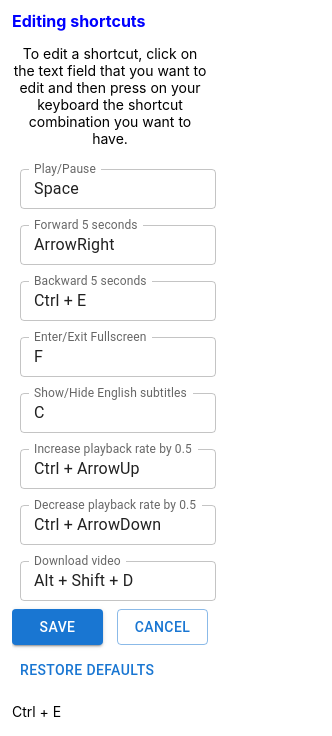
it: EditShortcuts › saves changes context correctly
Expected: the text with test id "test-context" reads "Ctrl + E", [12, 703, 61, 720]
Press a in the field labelled "Backward 5 seconds", box [20, 281, 216, 321]
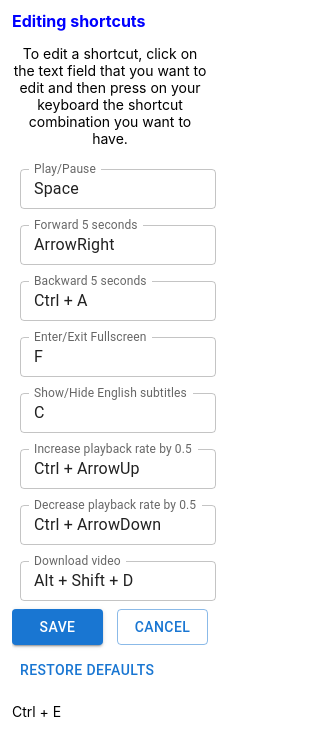
Click the button "Save" at (58, 627), box [12, 609, 103, 645]
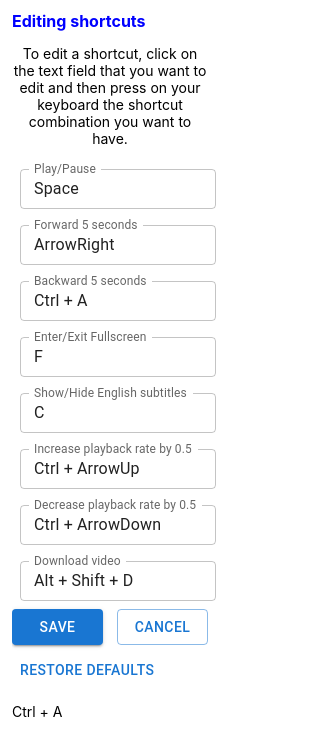
Expected: the field labelled "Backward 5 seconds" holds "Ctrl + A", [20, 281, 216, 321]
Expected: the text with test id "test-context" reads "Ctrl + A", [12, 703, 62, 720]
